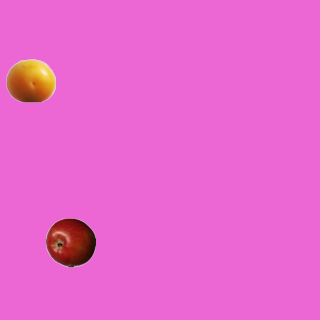Apple Braeburn: (45, 217, 95, 267)
Cherry Wax Yellow: (5, 55, 55, 105)
